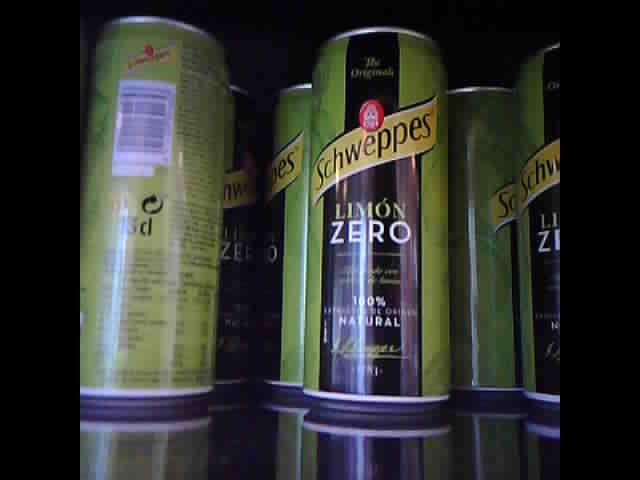schweppes: (300, 21, 455, 412), (78, 12, 224, 410), (454, 66, 516, 407), (263, 66, 315, 397), (209, 64, 257, 391), (518, 33, 559, 410)
